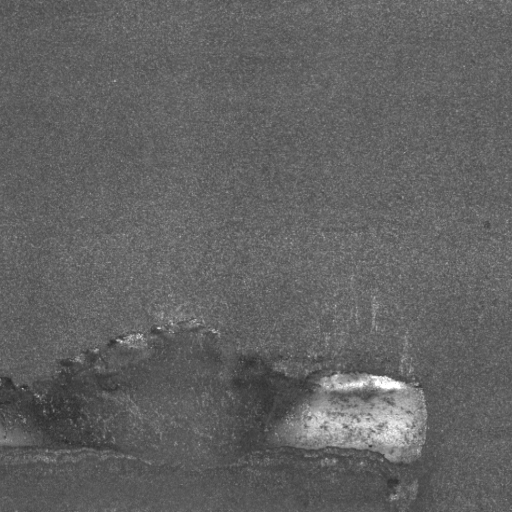qiaopi: (1, 319, 430, 469)
